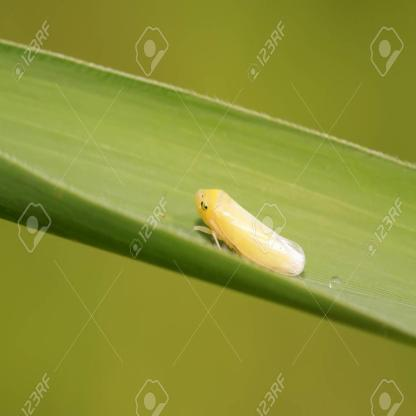Green-Leafhopper: (194, 186, 312, 278)
